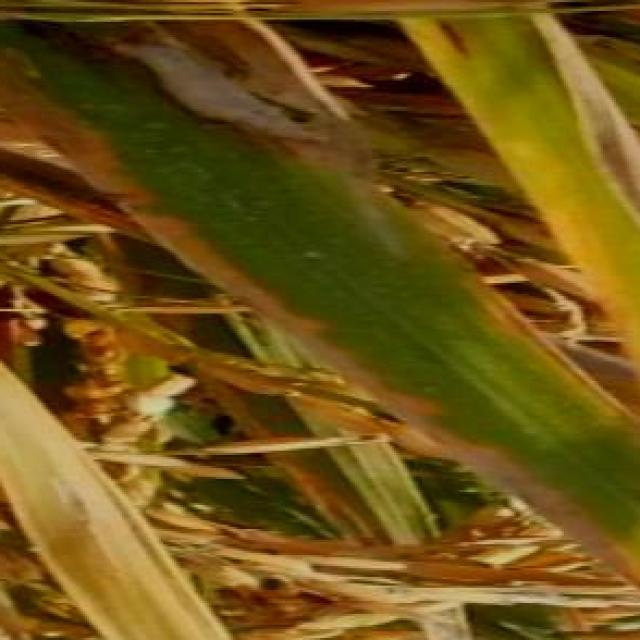Bacterial_Leaf_Blight: (416, 336, 640, 510)
